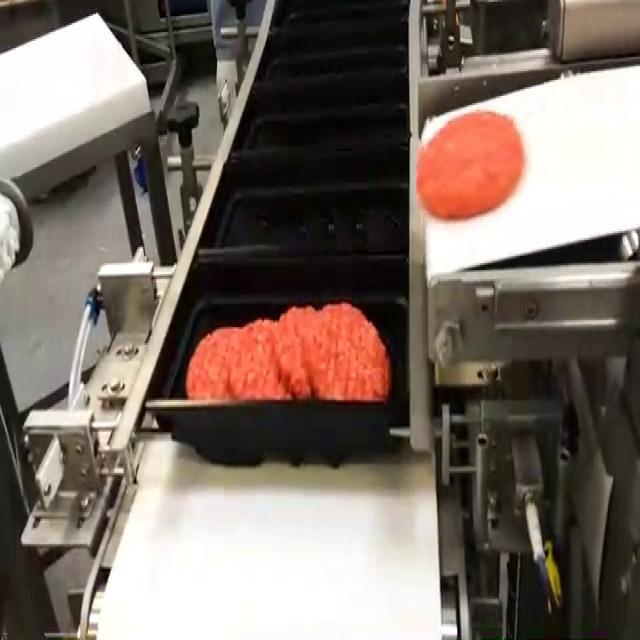4-hamburguer: (187, 302, 390, 400)
